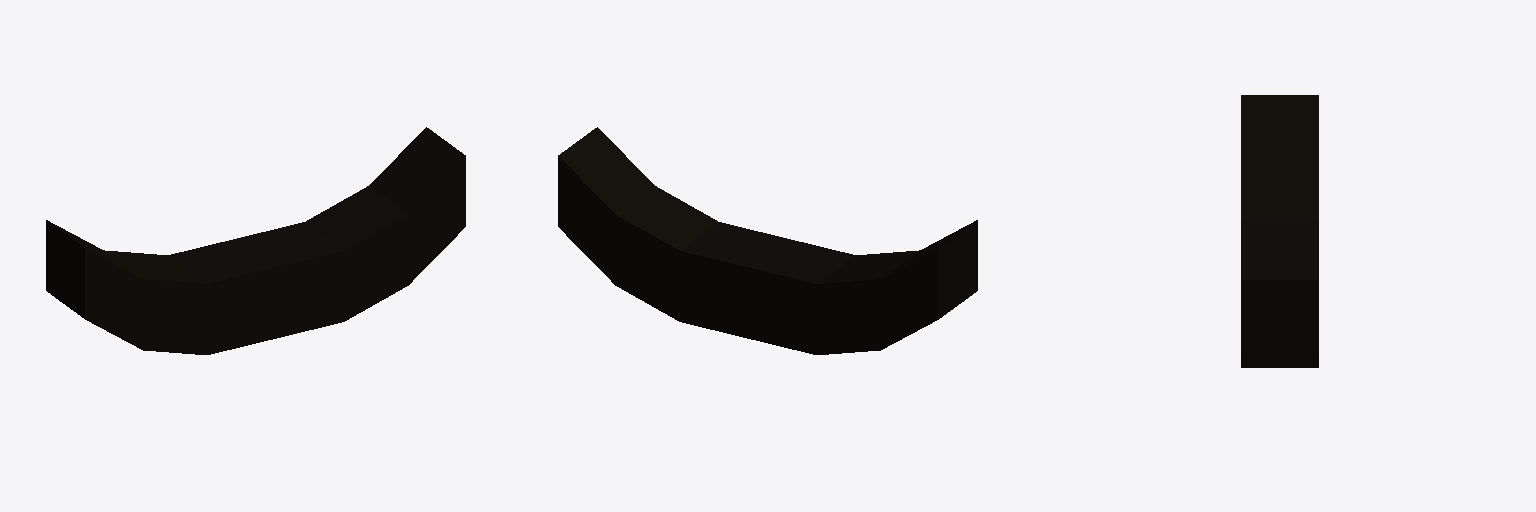
File: ati.obj
3 renders of one model, left to right at view 1: azimuth 30°, elevation 25°; view 2: azimuth 150°, elevation 25°; view 3: azimuth 270°, elevation 25°, orthographic.
Visible parts, largest first — view 1: pCube1; view 2: pCube1; view 3: pCube1.
Part boxes in pixels (left/top/right/bottom): pCube1: left=46, top=127, right=465, bottom=354; pCube1: left=558, top=127, right=977, bottom=354; pCube1: left=1241, top=95, right=1318, bottom=367.
Size of the model in its own units: 5.58 by 1.92 by 1.